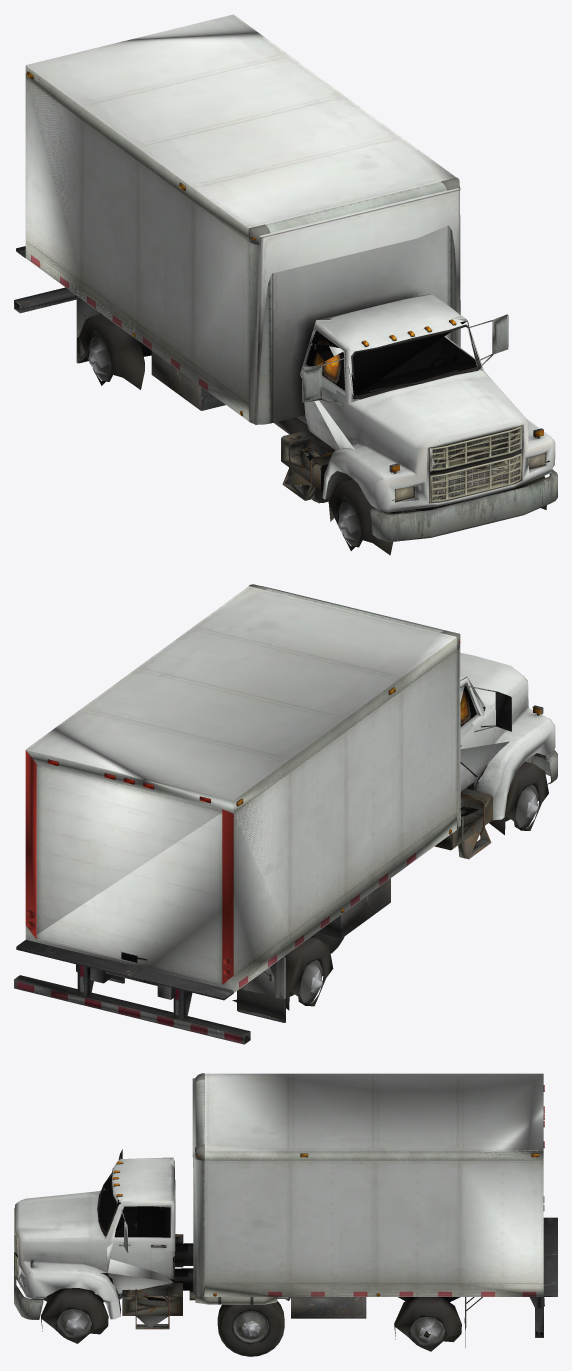
Rendered from truck4.glb.
The picture shows the model from 3 angles, top to bottom: view 1: azimuth 30°, elevation 25°; view 2: azimuth 150°, elevation 25°; view 3: azimuth 270°, elevation 25°; orthographic projection. The views are drawn at different scales.
Parts seen in each view (by area): view 1: body0, body2, body1; view 2: body0, body2, body1; view 3: body0, body2, wheel0, body1.
Part boxes in pixels (x1,y1,x2,y2): body0: (14, 14, 557, 541); body2: (78, 188, 549, 555); body1: (14, 66, 542, 508); body0: (14, 584, 557, 1044); body2: (37, 586, 548, 1019); body1: (15, 636, 542, 1043); body0: (14, 1073, 557, 1347); body2: (15, 1078, 544, 1351); wheel0: (217, 1301, 284, 1356); body1: (14, 1085, 544, 1337).
Bounding box in the file's own units: 2.86 × 3.71 × 7.6.
Materials: 4 (2 with a texture image).
